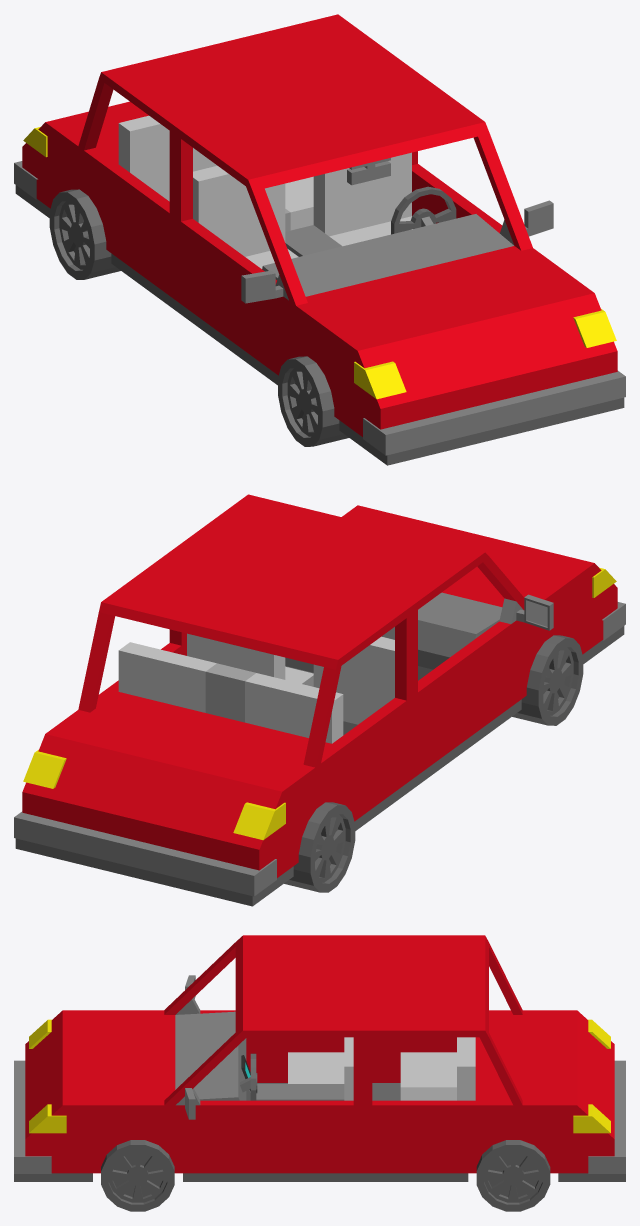
The model's file is car_proper_scale (3).fbx.
The picture shows the model from 3 angles, top to bottom: view 1: azimuth 30°, elevation 25°; view 2: azimuth 150°, elevation 25°; view 3: azimuth 270°, elevation 25°; orthographic projection. The views are drawn at different scales.
Parts seen in each view (by area): view 1: car_shell, dashboard, bumpers, seat_front_left, seat_front_right, car_base, wheel_back_right.005, wheel_front_right.004, seat_back_right, lights, side_view_mirror_frame, steering_wheel.001 (+2 smaller); view 2: car_shell, bumpers, car_base, dashboard, seat_back_left, wheel_front_right.004, wheel_back_right.005, seat_back_right, seat_front_right, lights, seat_front_left, seat_back_middle (+1 smaller); view 3: car_shell, dashboard, car_base, wheel_back_left.002, wheel_front_left.001, bumpers, lights, seat_back_right, seat_front_right, seat_back_left, seat_back_middle, side_view_mirror_frame (+1 smaller).
Part boxes in pixels (x1,y1,x2,y2): car_shell: (22, 14, 617, 436); dashboard: (262, 214, 513, 296); bumpers: (14, 161, 625, 455); seat_front_left: (313, 152, 412, 246); seat_front_right: (193, 165, 298, 268); car_base: (15, 185, 624, 465); wheel_back_right.005: (49, 189, 120, 279); wheel_front_right.004: (278, 356, 348, 446); seat_back_right: (118, 115, 216, 201); lights: (23, 127, 616, 399); side_view_mirror_frame: (241, 200, 553, 303); steering_wheel.001: (391, 186, 456, 234); car_shell: (22, 494, 617, 877); bumpers: (14, 602, 625, 896); car_base: (15, 626, 624, 906); dashboard: (285, 592, 502, 686); seat_back_left: (118, 642, 216, 712); wheel_front_right.004: (512, 635, 583, 725); wheel_back_right.005: (284, 802, 355, 892); seat_back_right: (245, 673, 343, 743); seat_front_right: (313, 636, 394, 735); lights: (23, 567, 616, 840); seat_front_left: (187, 633, 313, 683); seat_back_middle: (205, 663, 255, 722); car_shell: (25, 935, 614, 1173); dashboard: (175, 1011, 344, 1100); car_base: (14, 1083, 625, 1181); wheel_back_left.002: (476, 1140, 550, 1211); wheel_front_left.001: (101, 1140, 174, 1211); bumpers: (14, 1060, 625, 1173); lights: (29, 1019, 610, 1133); seat_back_right: (400, 1052, 456, 1087); seat_front_right: (288, 1052, 344, 1083); seat_back_left: (457, 1037, 475, 1100); seat_back_middle: (400, 1087, 456, 1100); side_view_mirror_frame: (176, 975, 200, 1119).
Size of the model in its own units: 195 by 408 by 130.
